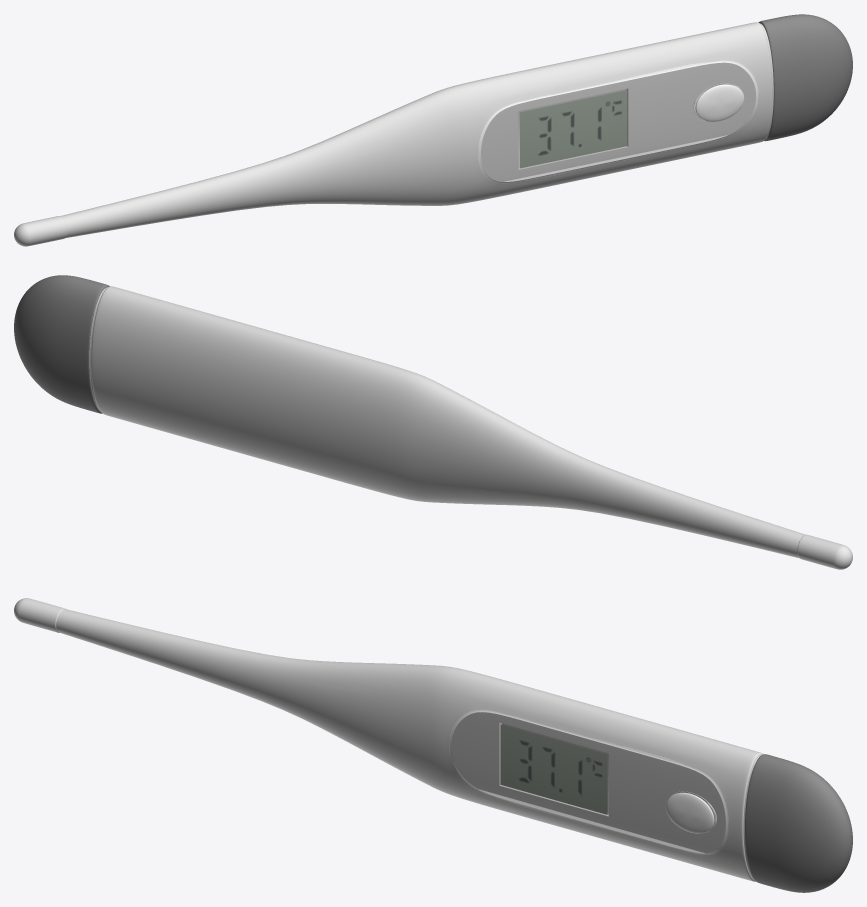
The model's file is fever.glb.
3 views of the same model, one above another, from view 1: azimuth 30°, elevation 25°; view 2: azimuth 150°, elevation 25°; view 3: azimuth 330°, elevation 25° (orthographic). The views are drawn at different scales.
Parts seen in each view (by area): view 1: Fever; view 2: Fever; view 3: Fever.
Part boxes in pixels (box(x1,y1,x2,y2)): Fever: box(14, 14, 852, 246); Fever: box(14, 275, 852, 569); Fever: box(14, 598, 852, 892).
Bounding box in the file's own units: 1.95 × 0.2737 × 0.2.
Materials: 8 (1 with a texture image).
